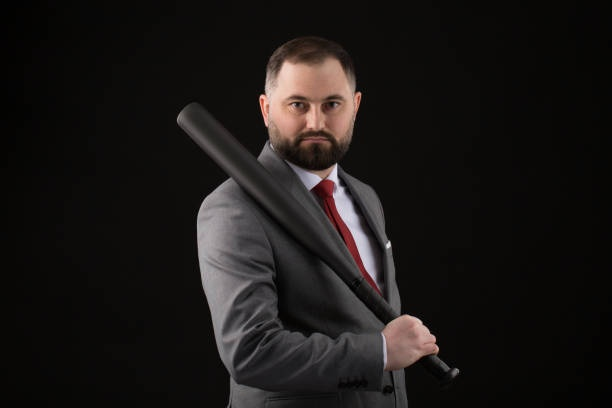bita: (176, 100, 463, 380)
